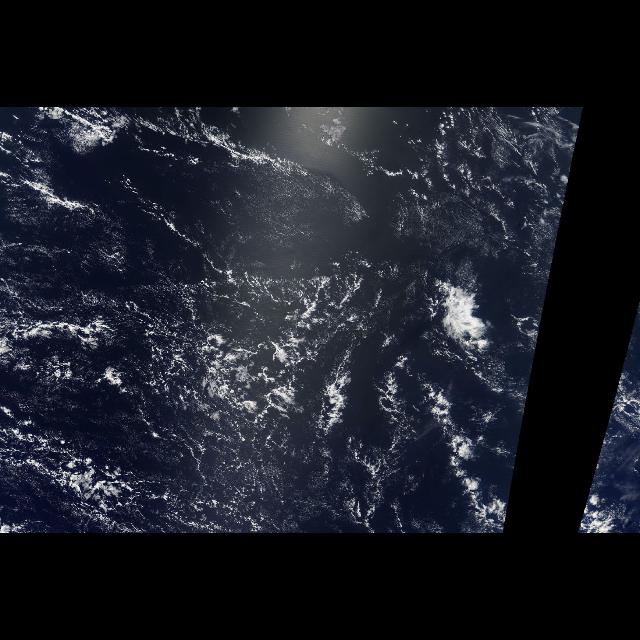Gravel: (1, 271, 422, 533)
Sugar: (236, 109, 576, 284)
